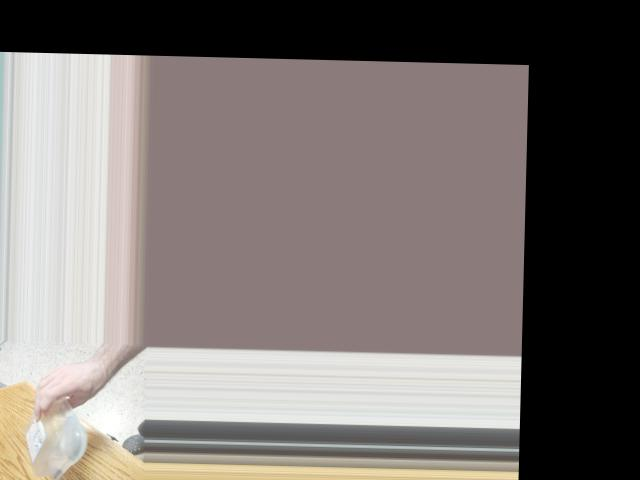cheese: (26, 383, 80, 475)
